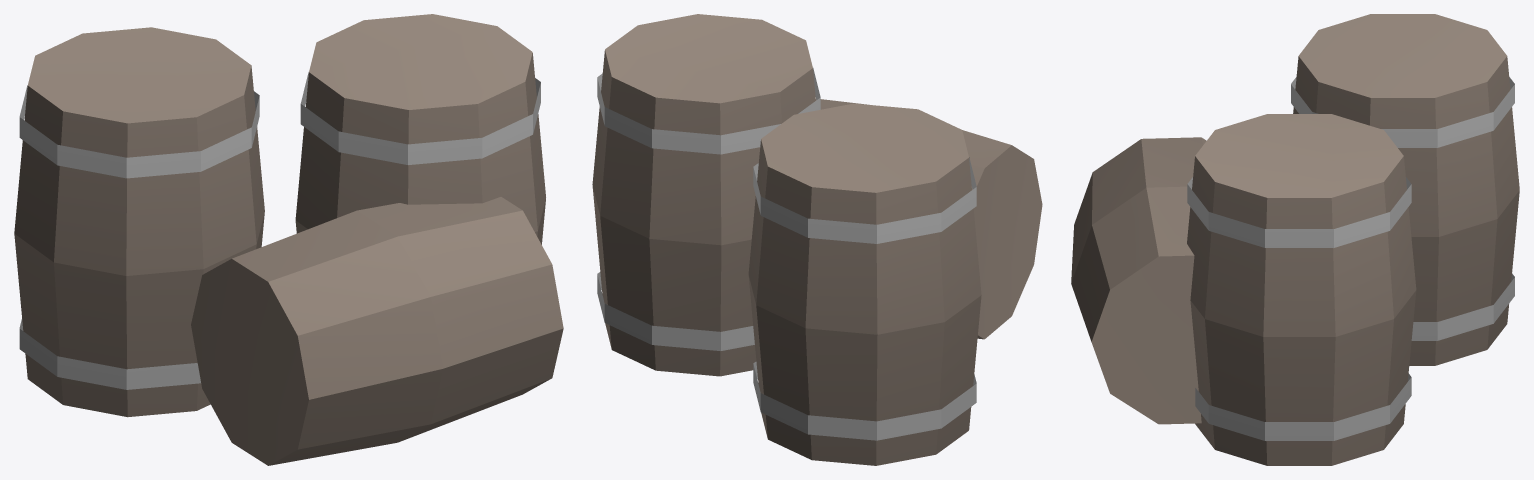
The model's file is barrels_2.glb.
The picture shows the model from 3 angles, left to right: view 1: azimuth 30°, elevation 25°; view 2: azimuth 150°, elevation 25°; view 3: azimuth 270°, elevation 25°; orthographic projection. The views are drawn at different scales.
Parts seen in each view (by area): view 1: barrels_2; view 2: barrels_2; view 3: barrels_2.
Boxes of the visible parts, bbox=[...] form: barrels_2: bbox=[14, 14, 563, 465]; barrels_2: bbox=[592, 14, 1042, 465]; barrels_2: bbox=[1071, 14, 1519, 465].
Bounding box in the file's own units: 1.32 × 0.85 × 1.29.
